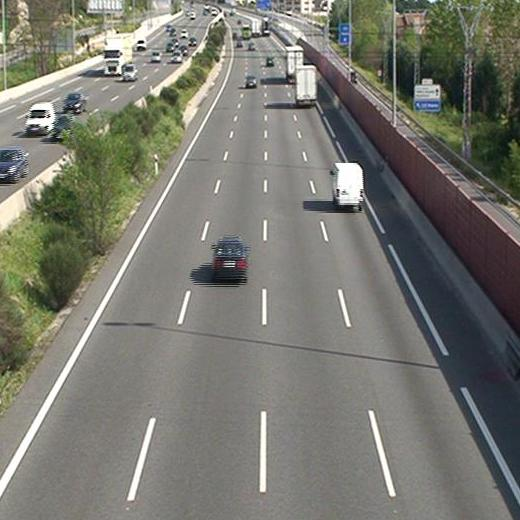car: (213, 236, 249, 283), (245, 76, 257, 87), (265, 56, 274, 66)
small-truck: (295, 66, 315, 108)
truck: (285, 44, 302, 82)
van: (331, 163, 364, 208)
